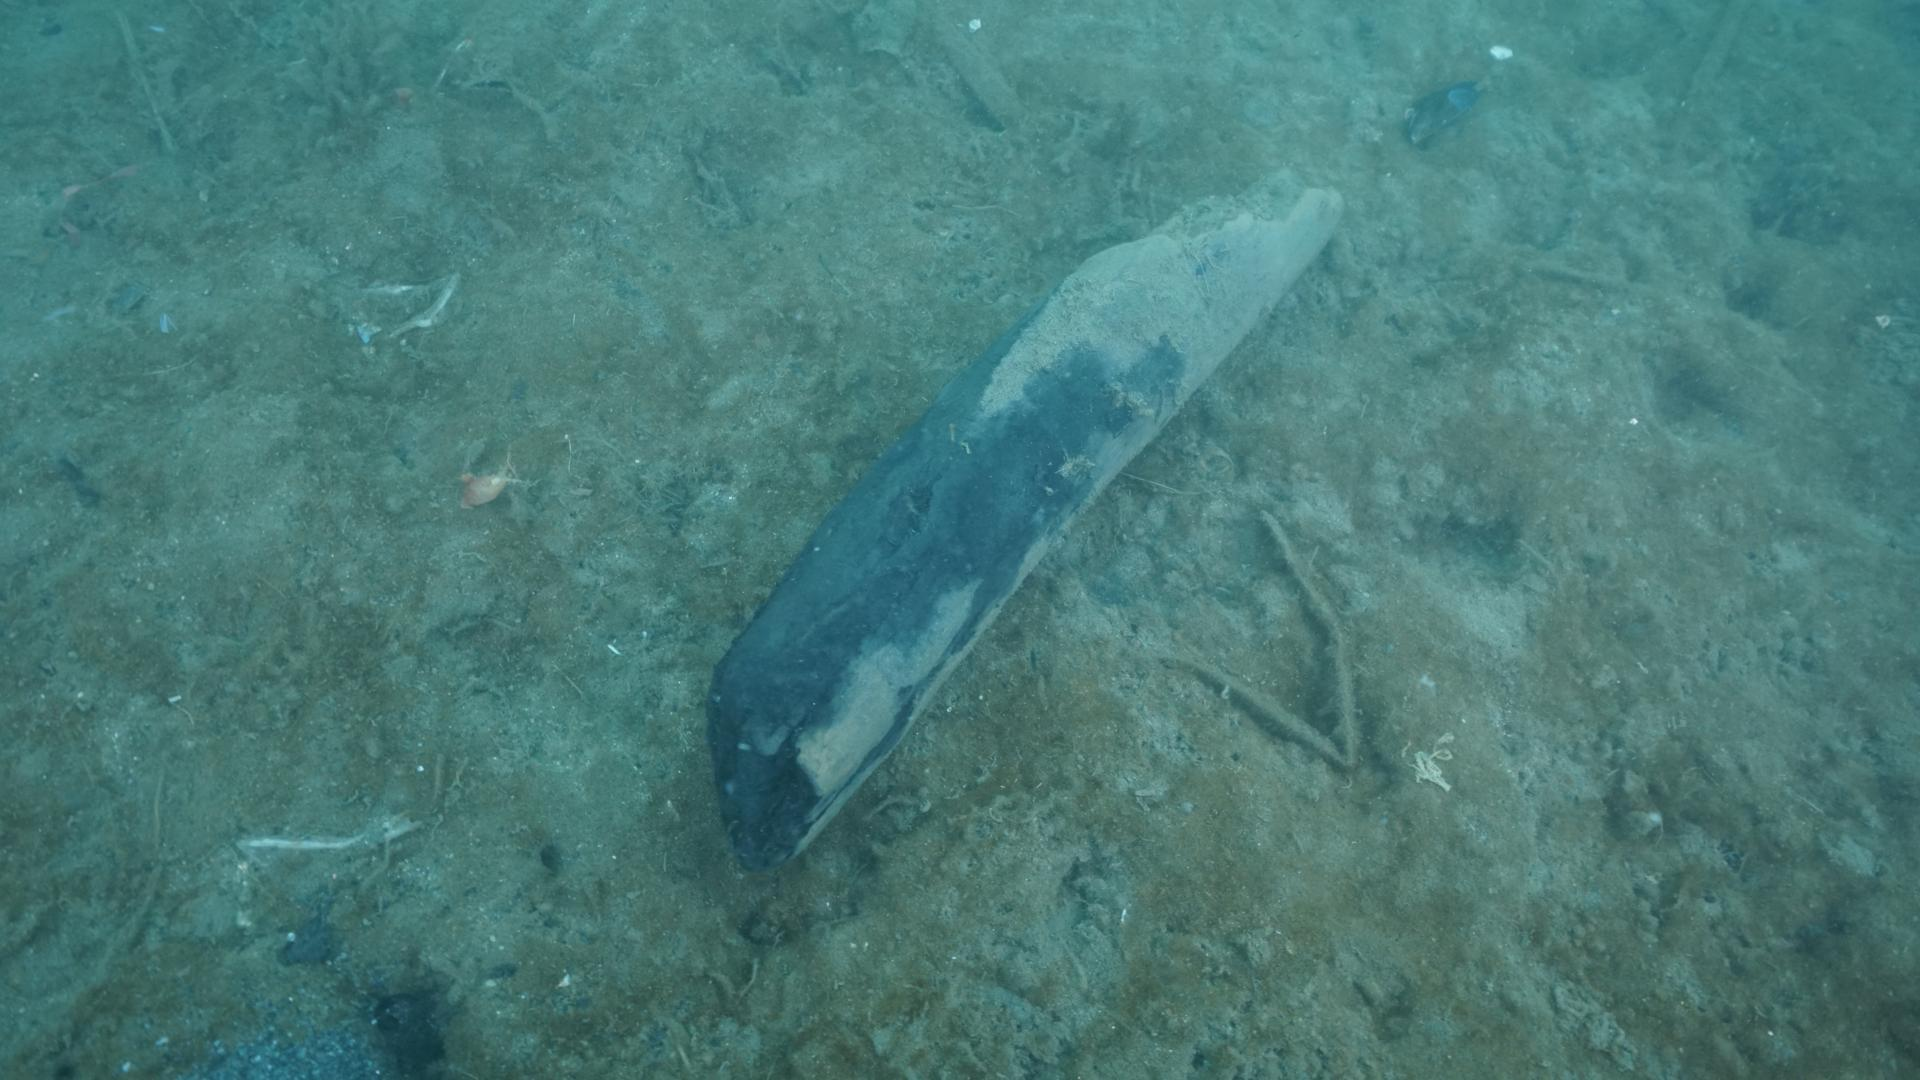wood: (698, 162, 1352, 885)
